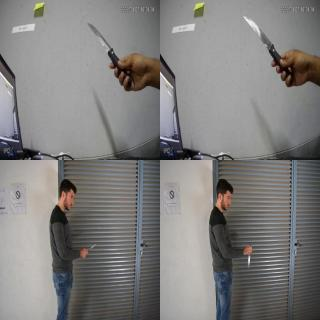knife: (243, 16, 289, 74), (88, 24, 122, 76), (246, 243, 252, 270), (84, 242, 97, 254)
